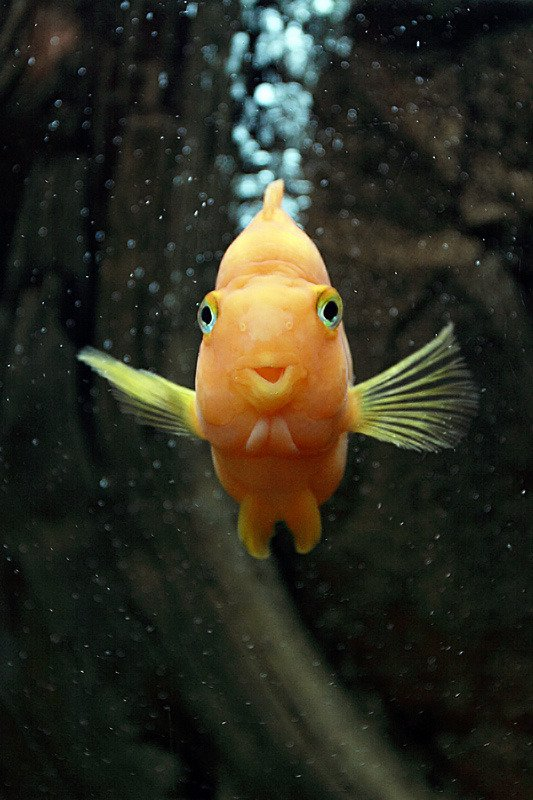Fish: (195, 173, 357, 562)
